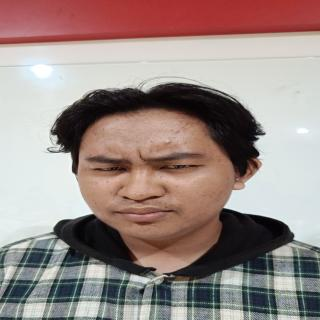Marah: (78, 107, 246, 249)
